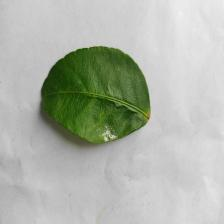greening: (37, 26, 154, 115)
